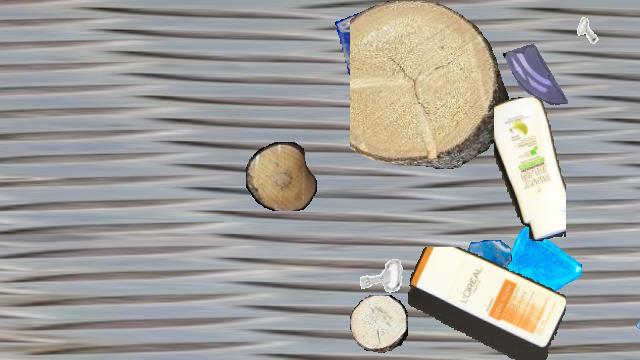glass: (488, 225, 582, 319), (335, 1, 427, 93), (502, 38, 572, 108), (452, 240, 512, 300), (636, 279, 640, 359)
metal: (407, 93, 465, 151), (354, 248, 410, 304), (569, 12, 607, 50)
plastic: (408, 247, 566, 359), (494, 97, 566, 241)
wood: (350, 1, 508, 169), (246, 142, 316, 210), (350, 295, 408, 353)
